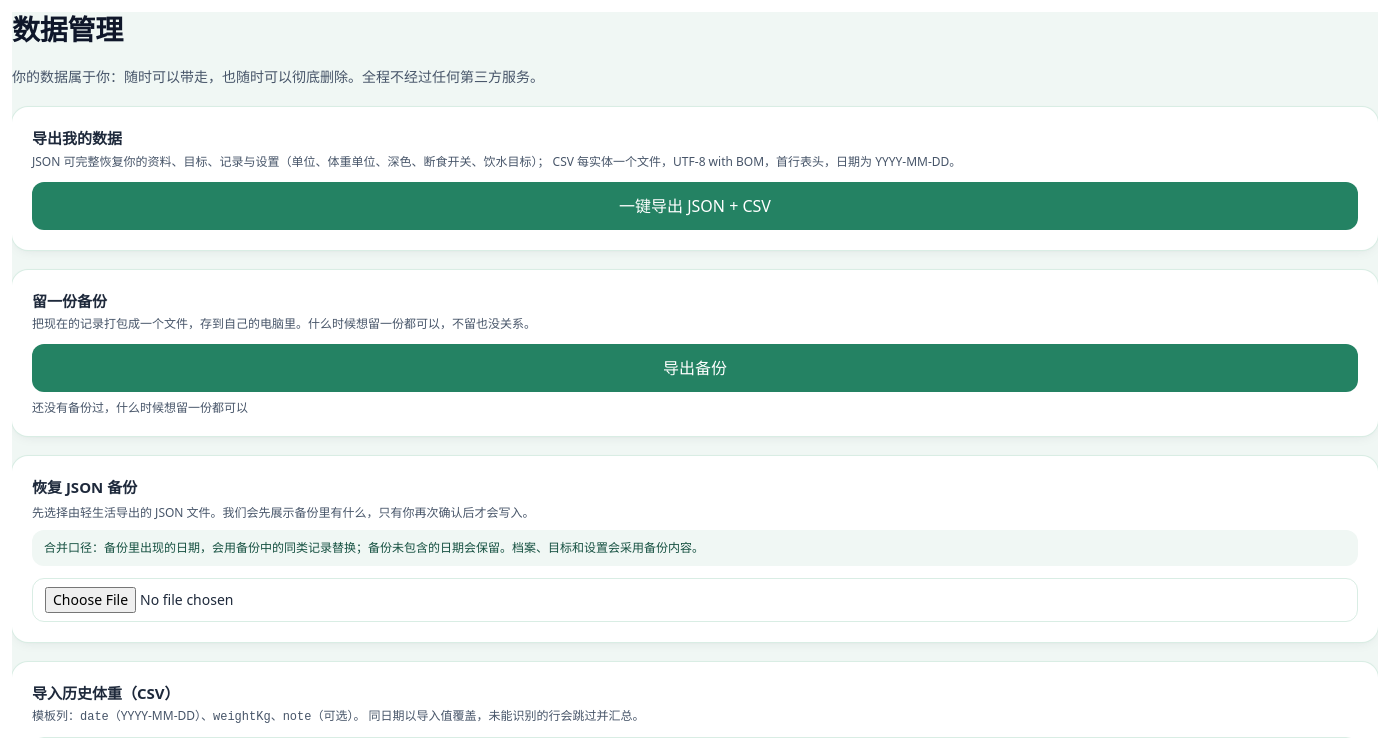
Test case: SettingsDataPage 备份（C6） › 点「导出备份」→ 调 /api/data/export、下载文件、写入 lastBackupAt 并给出温和反馈
Expected: the text with test id "last-backup" reads "还没有备份过，什么时候想留一份都可以", [32, 399, 248, 416]
Click the button "导出备份" at (695, 368), box [32, 344, 1358, 392]
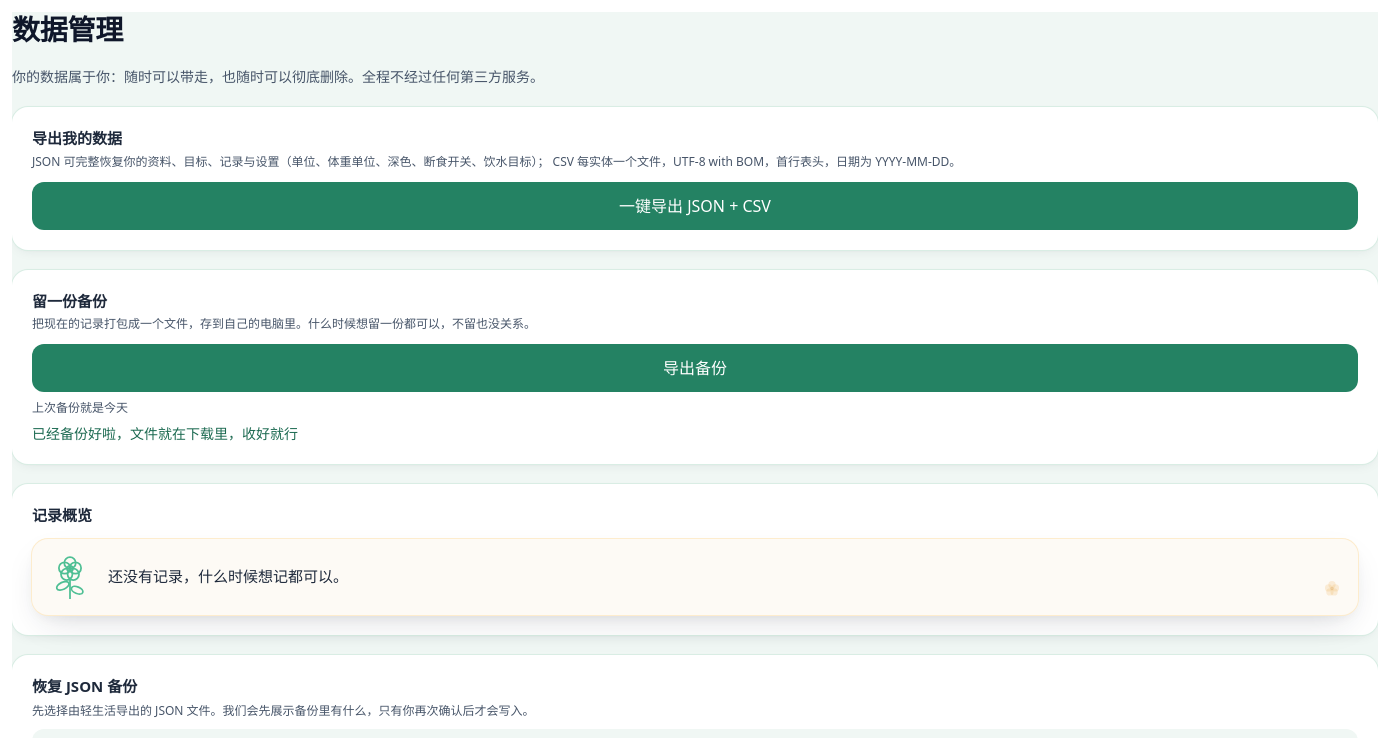
Expected: the text "已经备份好啦，文件就在下载里，收好就行" is shown, [32, 424, 298, 443]
Expected: the text with test id "last-backup" reads "上次备份就是今天", [32, 399, 128, 416]
